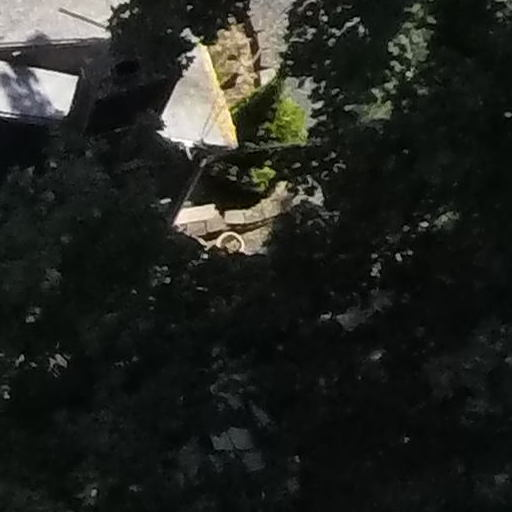container: (214, 225, 246, 261)
